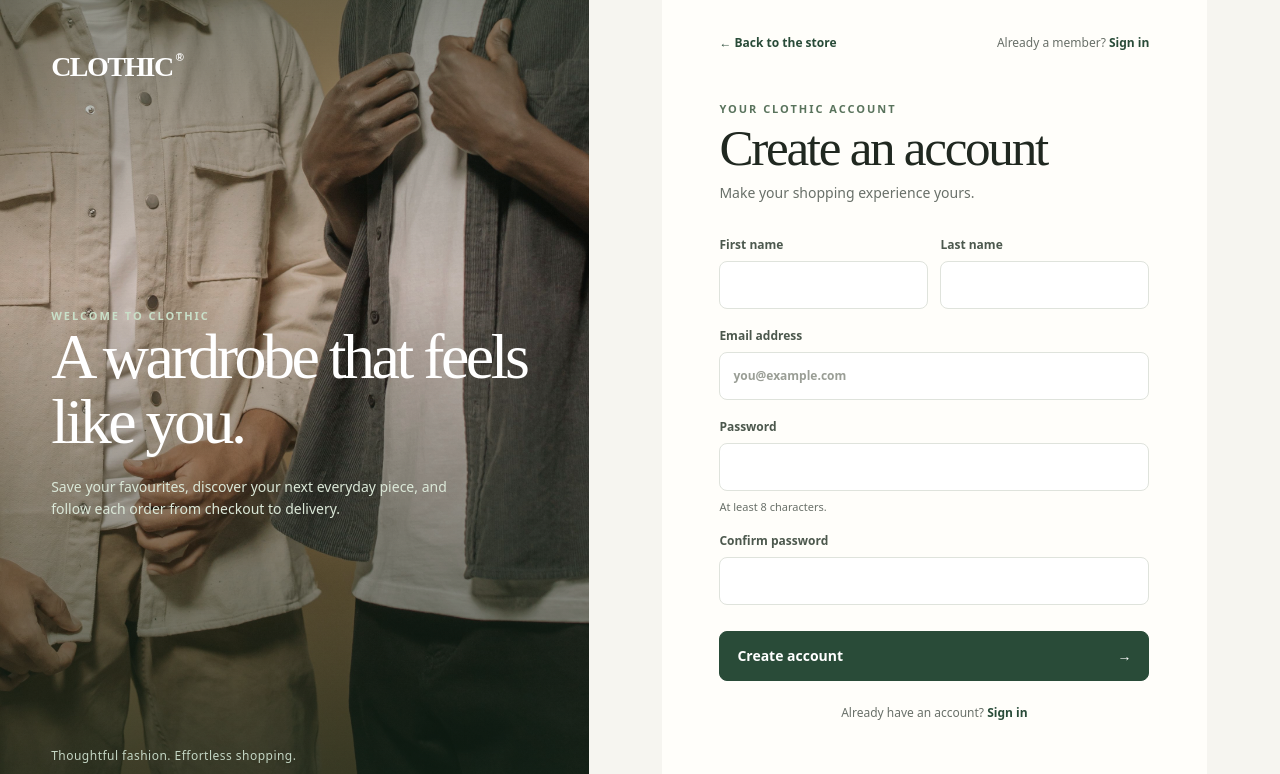
Test: RegisterPage › keeps the user on the form when passwords differ
Type "Asha" into the field labelled "First name" at (824, 285), box 719,261 -> 928,309
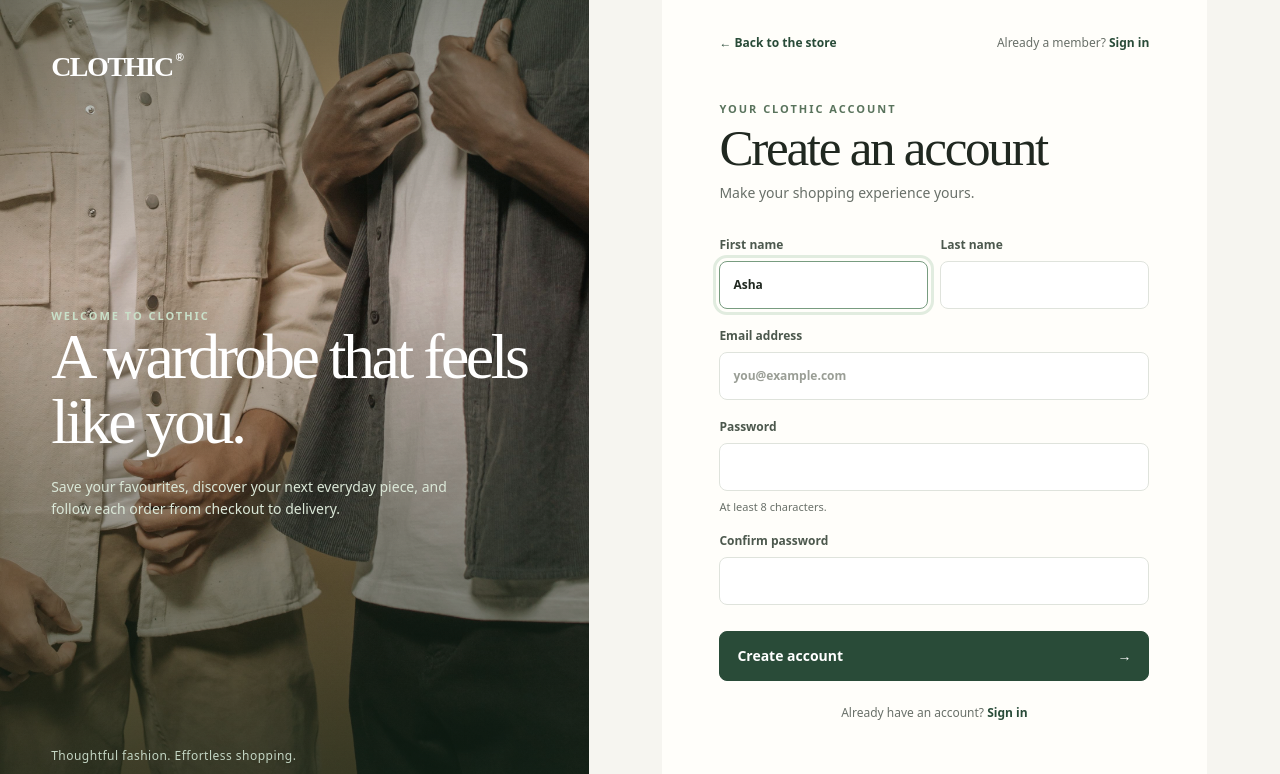
Type "Perera" into the field labelled "Last name" at (1045, 285), box 940,261 -> 1149,309
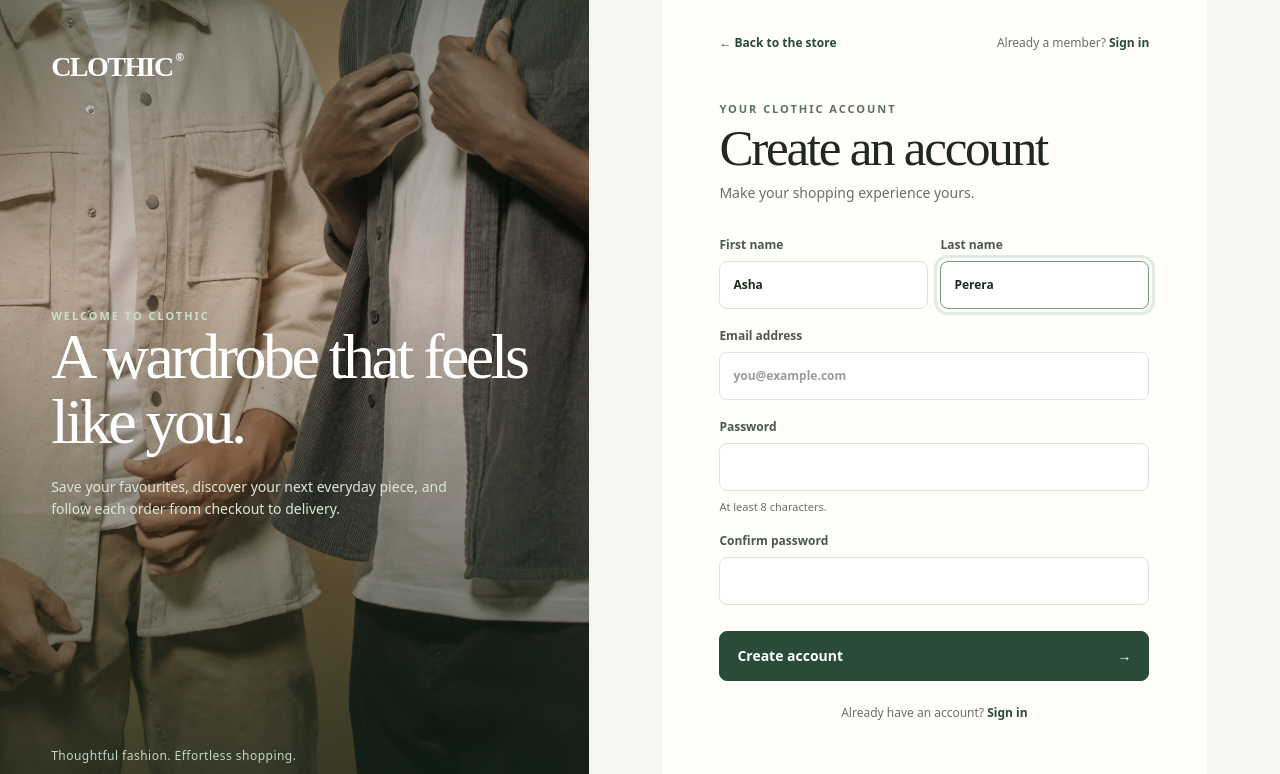
Type "asha@example.com" into the field labelled "Email address" at (934, 376), box 719,352 -> 1149,400
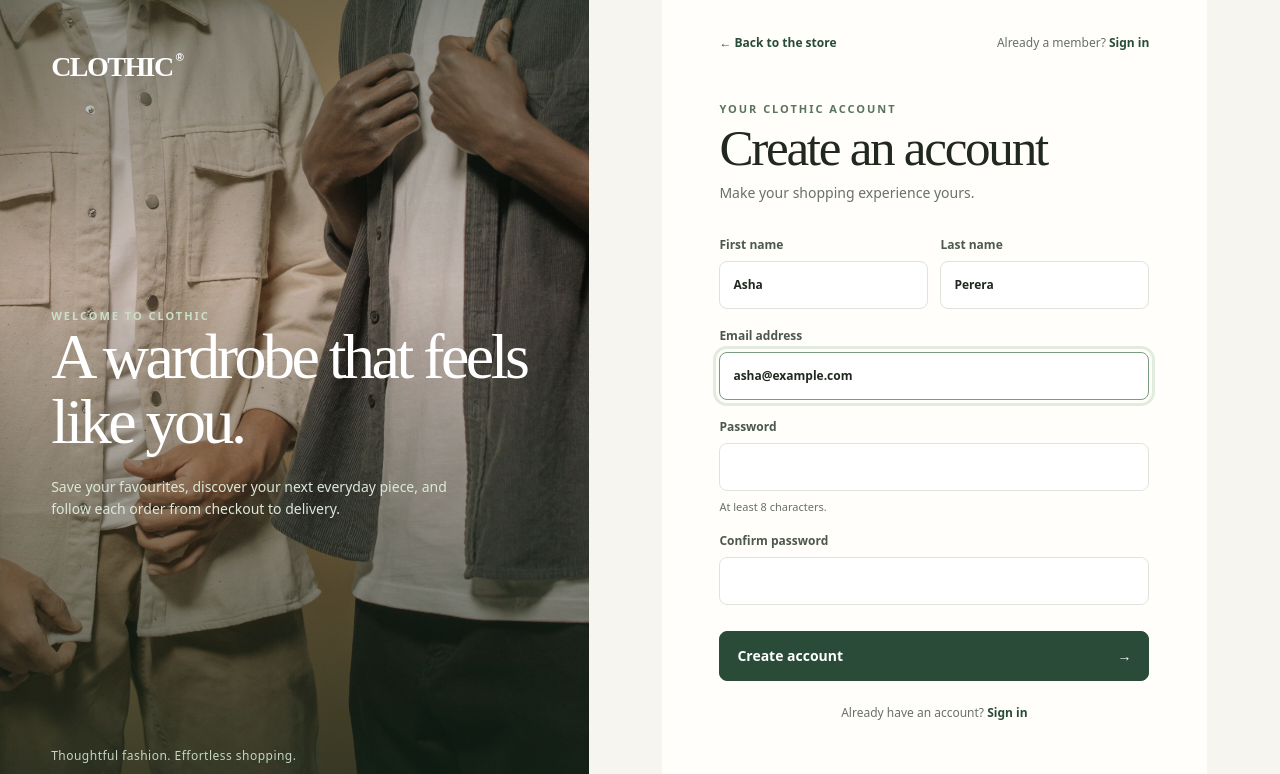
Type "securepass123" into the password field labelled "Password At least 8 characters." at (934, 467), box 719,443 -> 1149,491
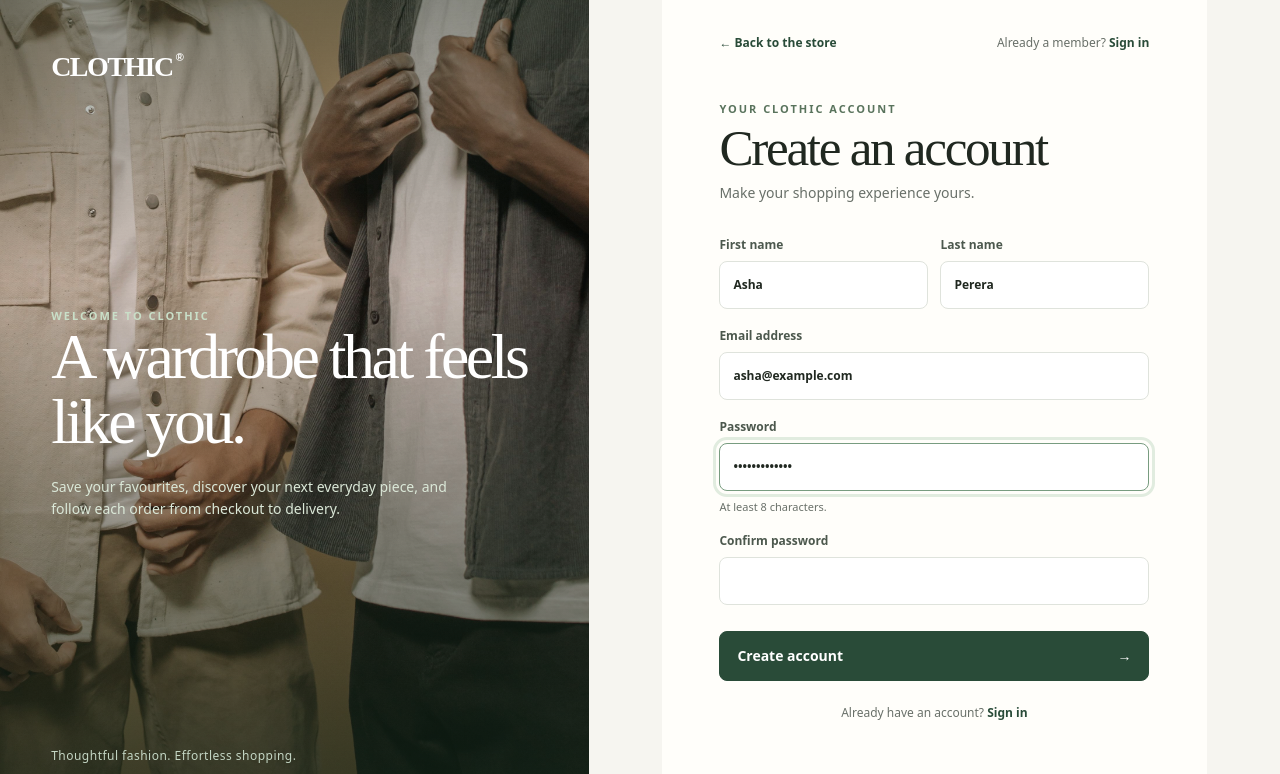
Type "anotherpass123" into the password field labelled "Confirm password" at (934, 581), box 719,557 -> 1149,605
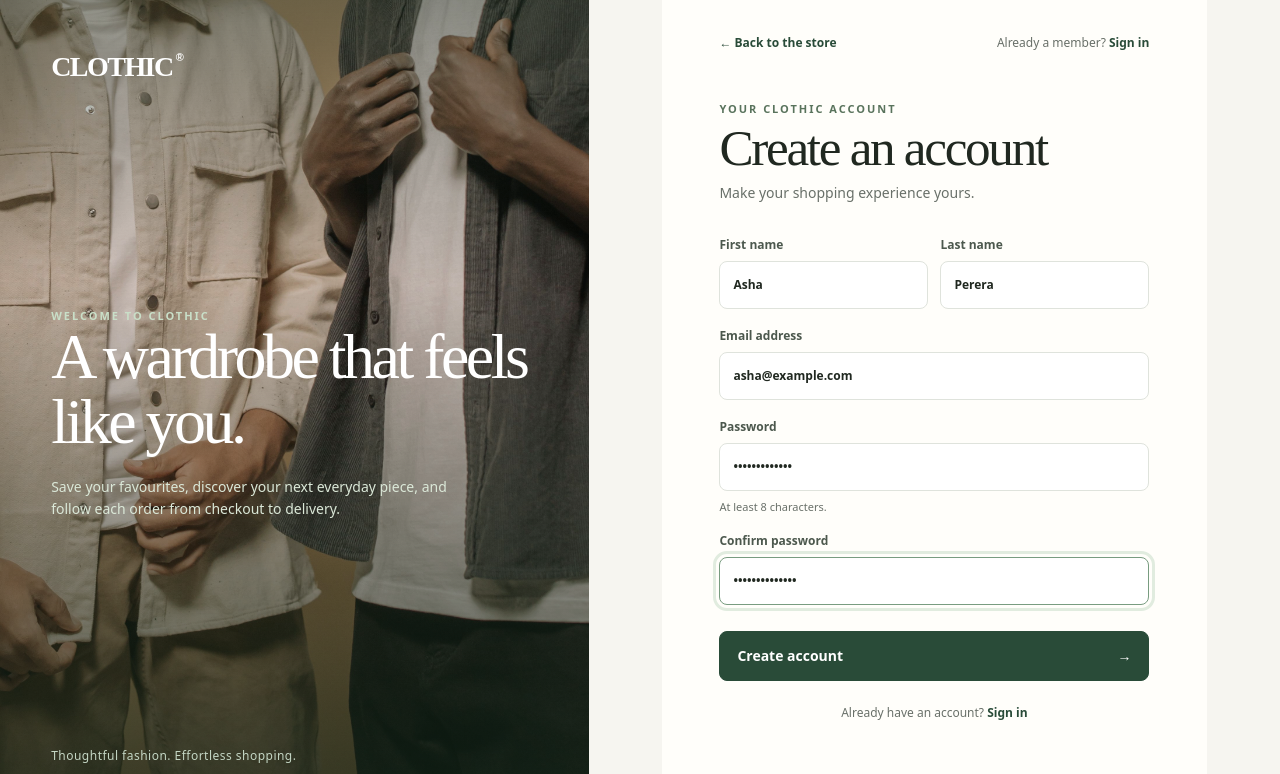
Click the button "Create account →" at (790, 655), box 719,631 -> 1149,681
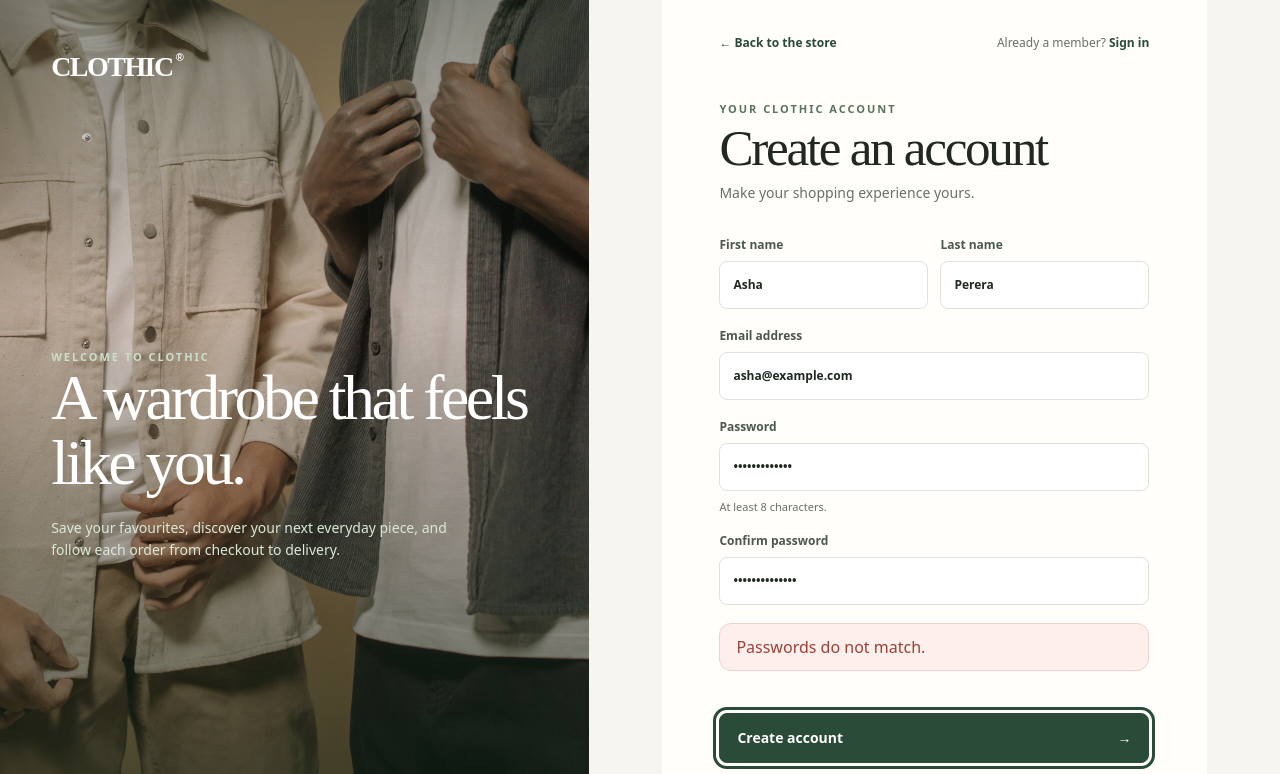
Expected: the message reads "Passwords do not match.", 736,636 -> 925,658
